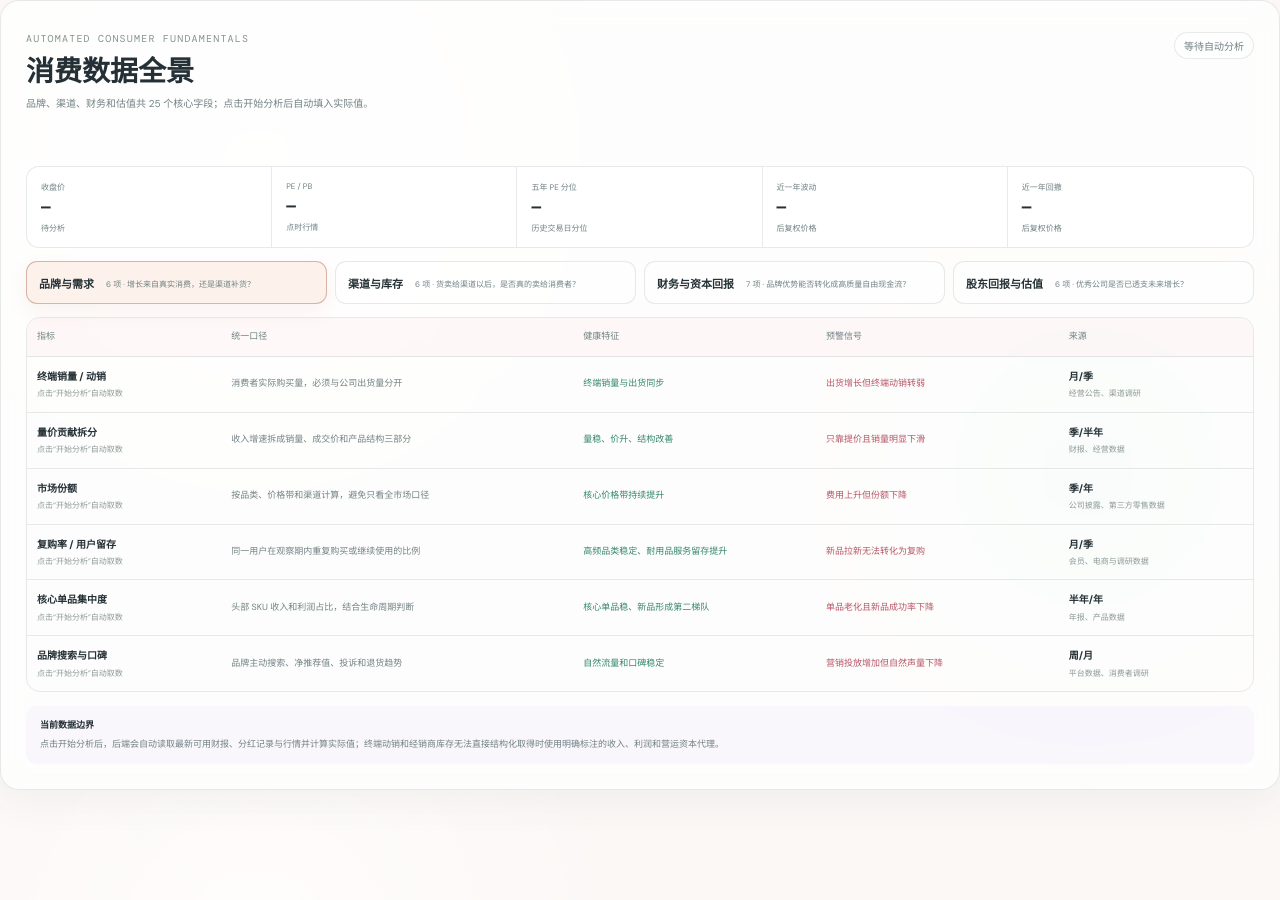
industry interaction flows › shows the consumer-specific 25-field panorama and switches metric groups
The width and height of the screenshot is (1280, 900).
Check: the heading "消费数据全景" is shown, box [26, 53, 194, 90]
Check: the text "品牌、渠道、财务和估值共 25 个核心字段；点击开始分析后自动填入实际值。" is shown, box [26, 96, 373, 112]
Click the button "渠道与库存 6 项 · 货卖给渠道以后，是否真的卖给消费者？" at (486, 283), box [335, 261, 636, 304]
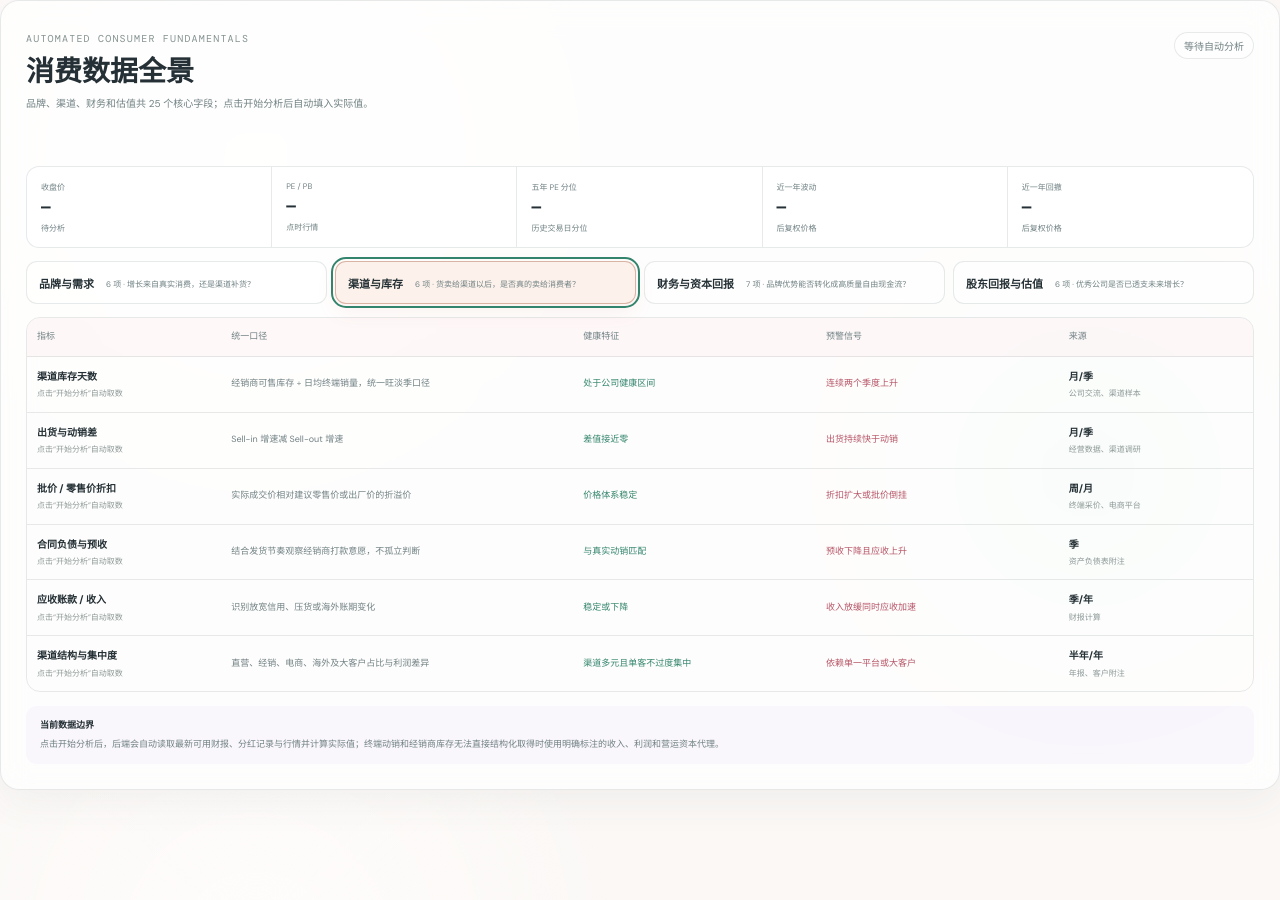
Check: the text "渠道库存天数" is shown, box [37, 370, 97, 383]
Check: the text "出货与动销差" is shown, box [37, 426, 97, 439]
